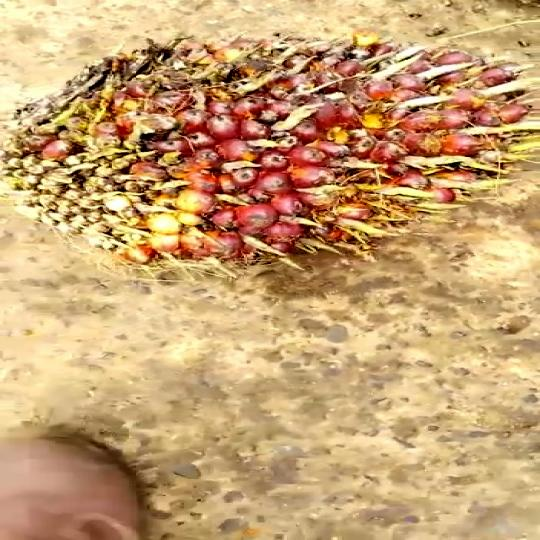masak: (0, 30, 532, 265)
